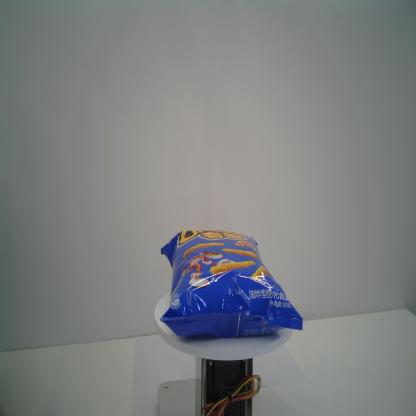Puffed Food: (160, 229, 303, 339)
